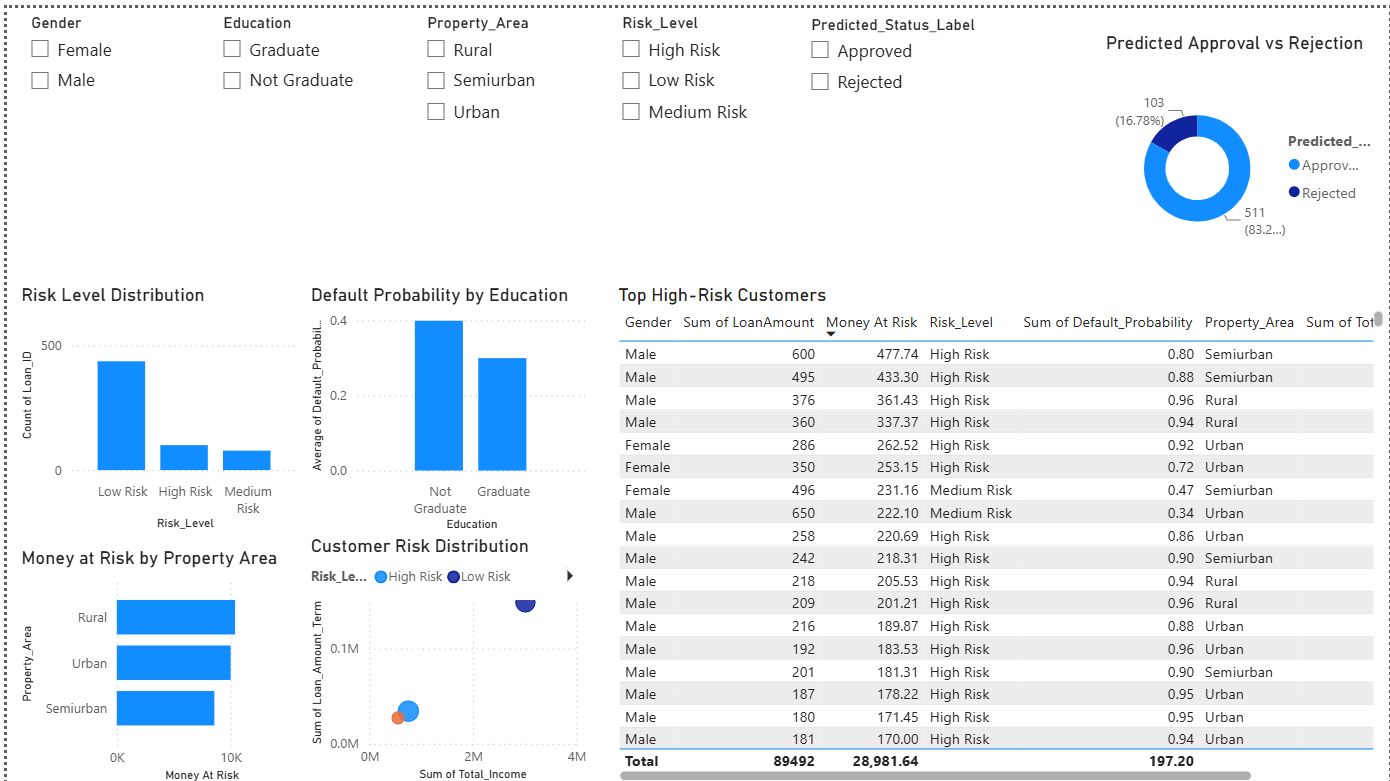

Layout of this report page (visuals, bound fields, positions):
{"tool":"powerbi","page":{"name":"Prediction Analysis","canvas":[1280,720],"ordinal":3},"visuals":[{"type":"donutChart","title":"Predicted Approval vs Rejection","fields":{"Category":["credit_risk_dashboard_data.Predicted_Status_Label"],"Y":["CountNonNull(credit_risk_dashboard_data.Loan_ID)"]},"box":[1012.9,22.7,266.5,232.4],"z":0},{"type":"clusteredColumnChart","title":"Risk Level Distribution","fields":{"Y":["CountNonNull(credit_risk_dashboard_data.Loan_ID)"],"Category":["credit_risk_dashboard_data.Risk_Level"]},"box":[9,256,266,232],"z":1000},{"type":"clusteredBarChart","title":"Money at Risk by Property Area","fields":{"Y":["credit_risk_dashboard_data.Money At Risk"],"Category":["credit_risk_dashboard_data.Property_Area"]},"box":[9,498,266,222],"z":2000},{"type":"clusteredColumnChart","title":"Default Probability by Education","fields":{"Category":["credit_risk_dashboard_data.Education"],"Y":["Avg(credit_risk_dashboard_data.Default_Probability)"]},"box":[275.9,255.1,264.6,232.4],"z":3000},{"type":"tableEx","title":"Top High-Risk Customers","fields":{"Values":["credit_risk_dashboard_data.Gender","Sum(credit_risk_dashboard_data.LoanAmount)","credit_risk_dashboard_data.Money At Risk","credit_risk_dashboard_data.Risk_Level","Sum(credit_risk_dashboard_data.Default_Probability)","credit_risk_dashboard_data.Property_Area","Sum(credit_risk_dashboard_data.Total_Income)","credit_risk_dashboard_data.Loan_ID"]},"box":[561.3,255.1,718.1,464.9],"z":4000},{"type":"scatterChart","title":"Customer Risk Distribution","fields":{"X":["Sum(credit_risk_dashboard_data.Total_Income)"],"Y":["Sum(credit_risk_dashboard_data.Loan_Amount_Term)"],"Size":["Sum(credit_risk_dashboard_data.Default_Probability)"],"Series":["credit_risk_dashboard_data.Risk_Level"]},"box":[275.9,487.6,264.6,232.4],"z":5000},{"type":"slicer","fields":{"Values":["credit_risk_dashboard_data.Gender"]},"box":[9.4,0,177.6,232.4],"z":6000},{"type":"slicer","fields":{"Values":["credit_risk_dashboard_data.Education"]},"box":[187.1,0,166.3,255.1],"z":7000},{"type":"slicer","fields":{"Values":["credit_risk_dashboard_data.Property_Area"]},"box":[376.1,0,181.4,255.1],"z":7001},{"type":"slicer","fields":{"Values":["credit_risk_dashboard_data.Risk_Level"]},"box":[557.5,0,173.9,232.4],"z":7002},{"type":"slicer","fields":{"Values":["credit_risk_dashboard_data.Predicted_Status_Label"]},"box":[731.3,1.9,206,253.2],"z":7003}]}

Visuals, with their boxes in screenshot pixels (x1, y1, x2, y2), scaled from the page's 1280x720 canvas onto the 1390x781 screenshot:
"Predicted Approval vs Rejection" donutChart: x1=1100, y1=25, x2=1389, y2=277
"Risk Level Distribution" clusteredColumnChart: x1=10, y1=278, x2=299, y2=529
"Money at Risk by Property Area" clusteredBarChart: x1=10, y1=540, x2=299, y2=780
"Default Probability by Education" clusteredColumnChart: x1=300, y1=277, x2=587, y2=529
"Top High-Risk Customers" tableEx: x1=610, y1=277, x2=1389, y2=780
"Customer Risk Distribution" scatterChart: x1=300, y1=529, x2=587, y2=780
slicer - credit_risk_dashboard_data.Gender: x1=10, y1=0, x2=203, y2=252
slicer - credit_risk_dashboard_data.Education: x1=203, y1=0, x2=384, y2=277
slicer - credit_risk_dashboard_data.Property_Area: x1=408, y1=0, x2=605, y2=277
slicer - credit_risk_dashboard_data.Risk_Level: x1=605, y1=0, x2=794, y2=252
slicer - credit_risk_dashboard_data.Predicted_Status_Label: x1=794, y1=2, x2=1018, y2=277
